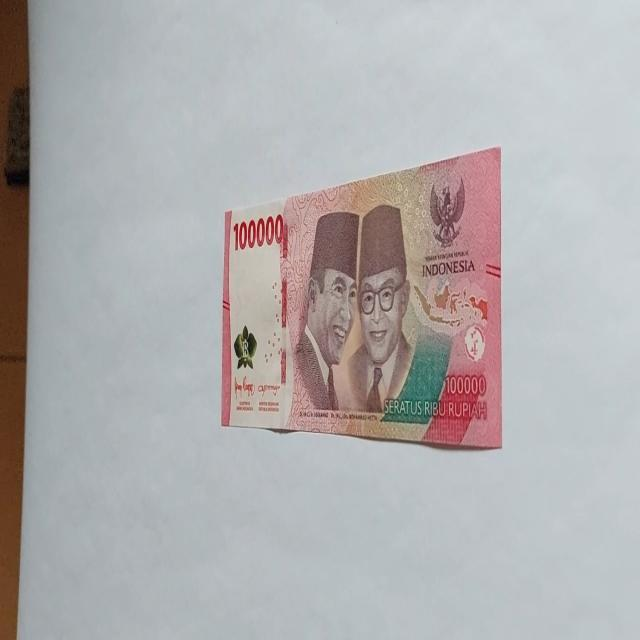seratus ribu rupiah: (220, 146, 502, 449), (347, 203, 415, 414), (292, 210, 360, 413)
